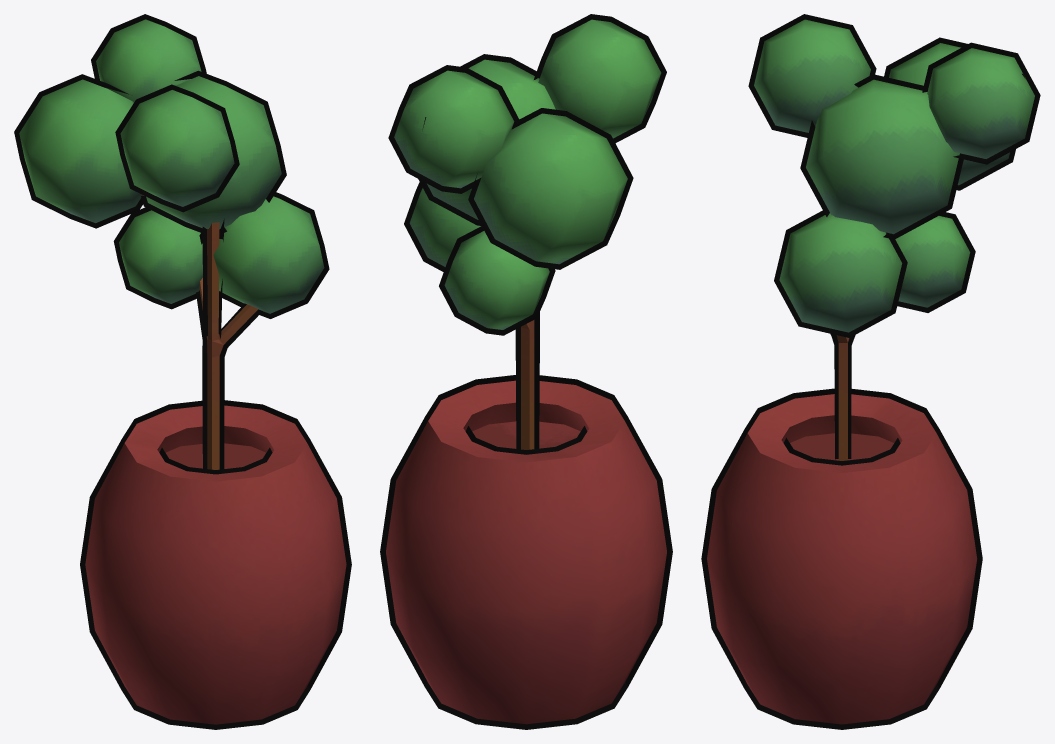
File: Vaso de Plantas.glb
3 views of the same model, side by side, from view 1: azimuth 30°, elevation 25°; view 2: azimuth 150°, elevation 25°; view 3: azimuth 270°, elevation 25° (orthographic). The views are drawn at different scales.
Visible parts, largest first — view 1: Vaso; view 2: Vaso; view 3: Vaso.
Part boxes in pixels (box(x1,y1,x2,y2)): Vaso: box(14, 14, 351, 729); Vaso: box(380, 14, 672, 729); Vaso: box(701, 14, 1040, 729).
Size of the model in its own units: 0.36 by 0.8295 by 0.3962.
2 materials, 1 textured.
